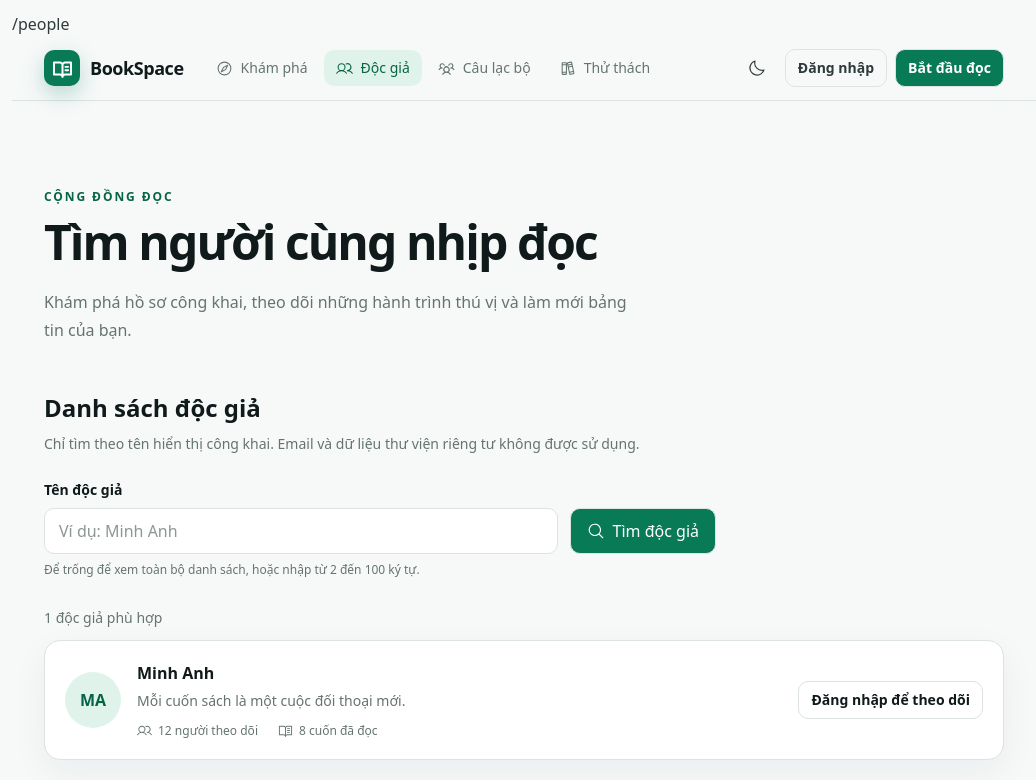
Test: production people route › writes submitted search to the production URL query string
In the field labelled "Tên độc giả": (301, 531) [44,508,558,554], type "  Lan Chi  "
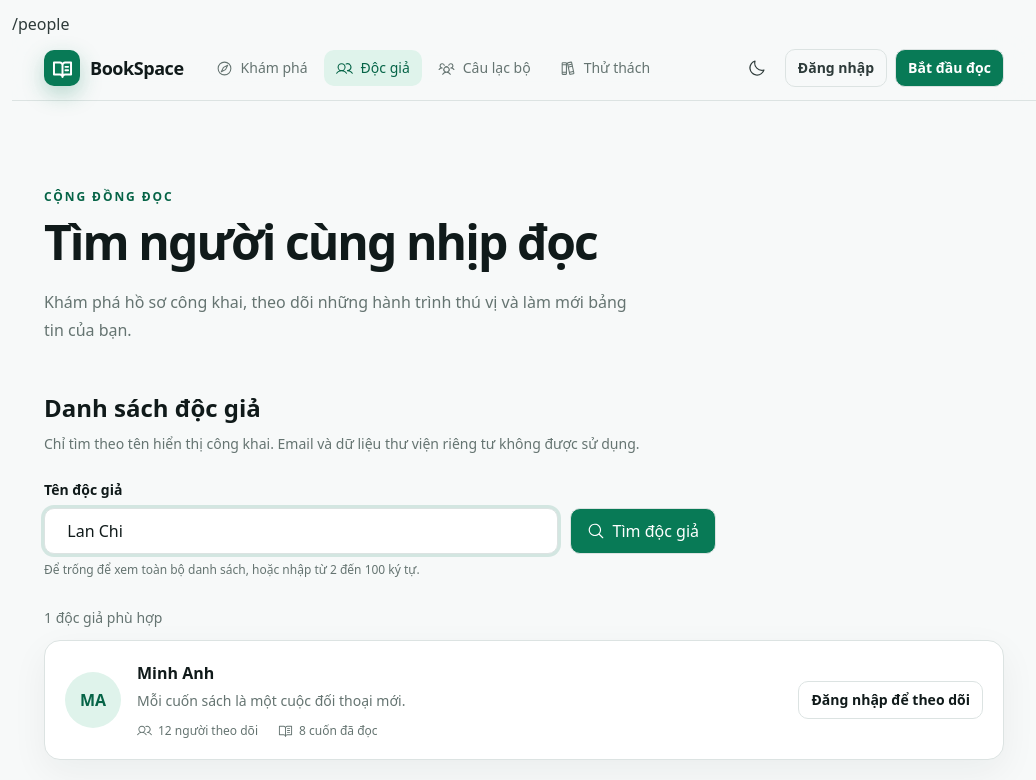
Click the button "Tìm độc giả": (643, 531) [570,508,716,554]
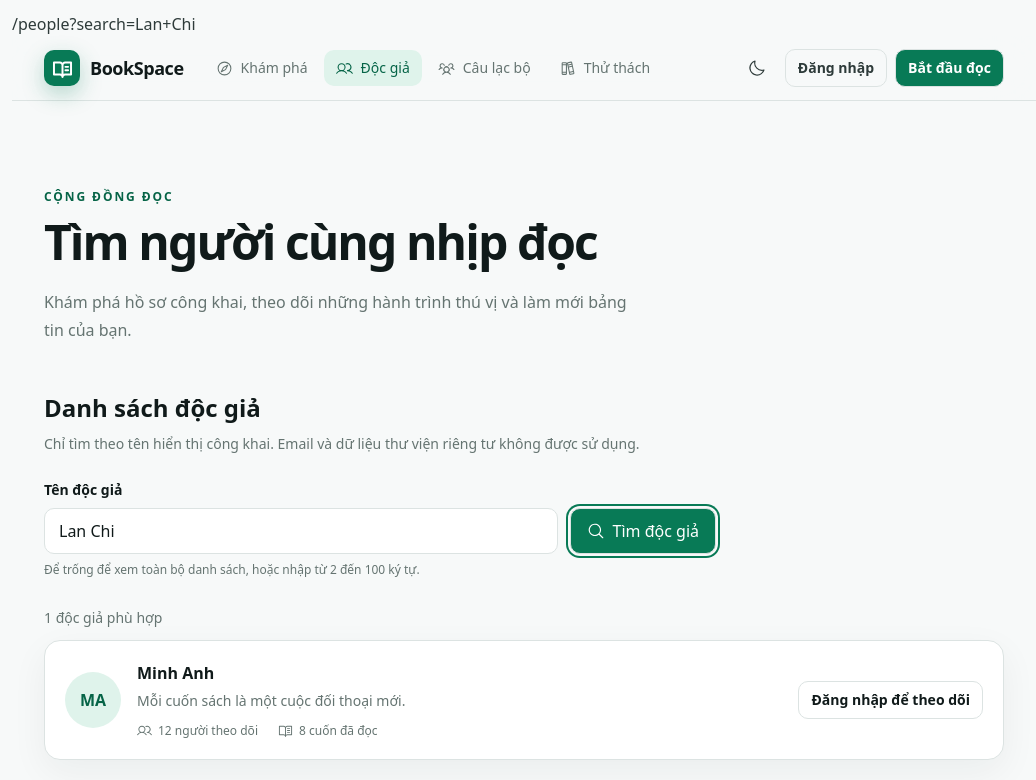
Now the text with test id "current-location" reads "/people?search=Lan+Chi", box [12,13,196,35]
